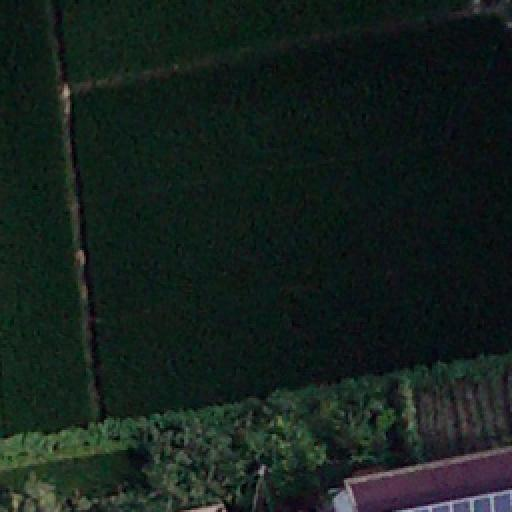solar-panel: (400, 489, 512, 511)
